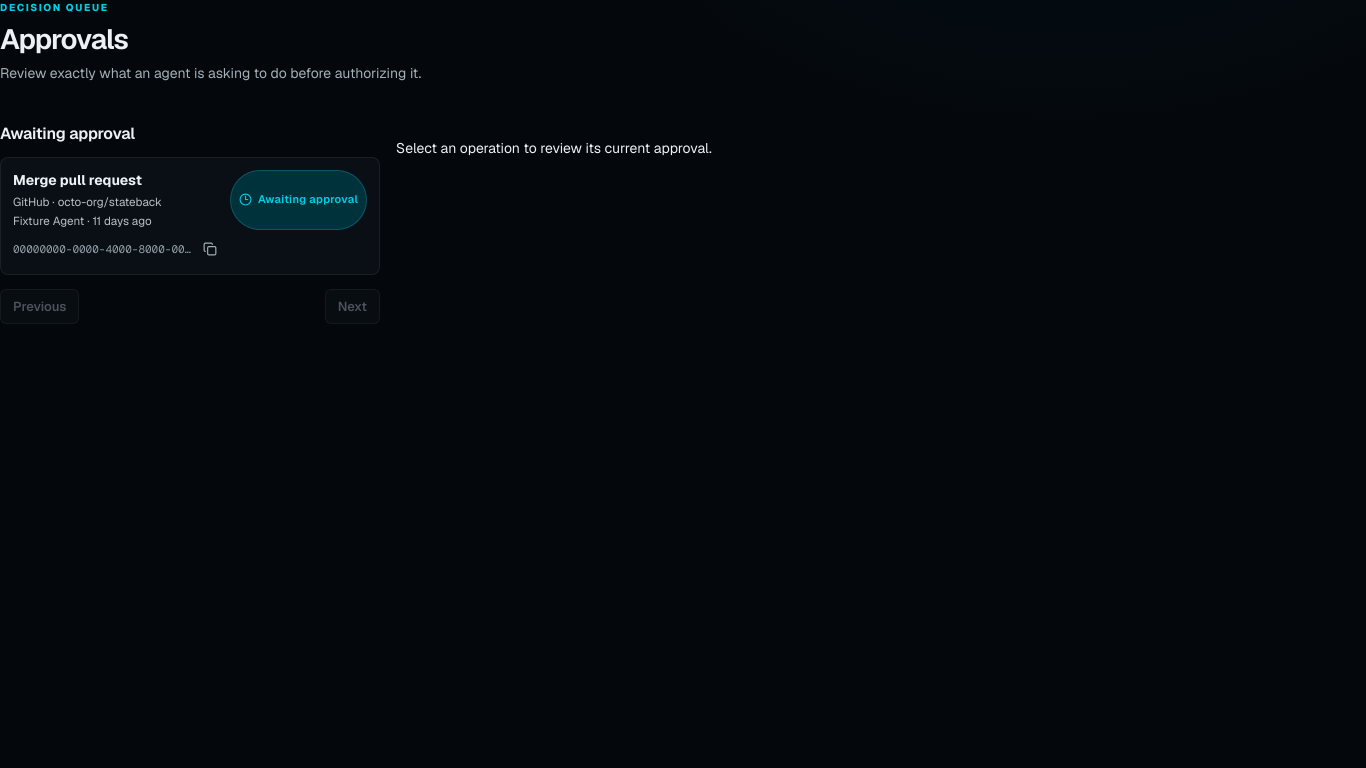
Scenario: makes merge approval bind the pull request, expected head, and method
Click the link with aria-label "merge pull request with github".
click(88, 200)  # box [13, 171, 162, 228]
(page scrolled)
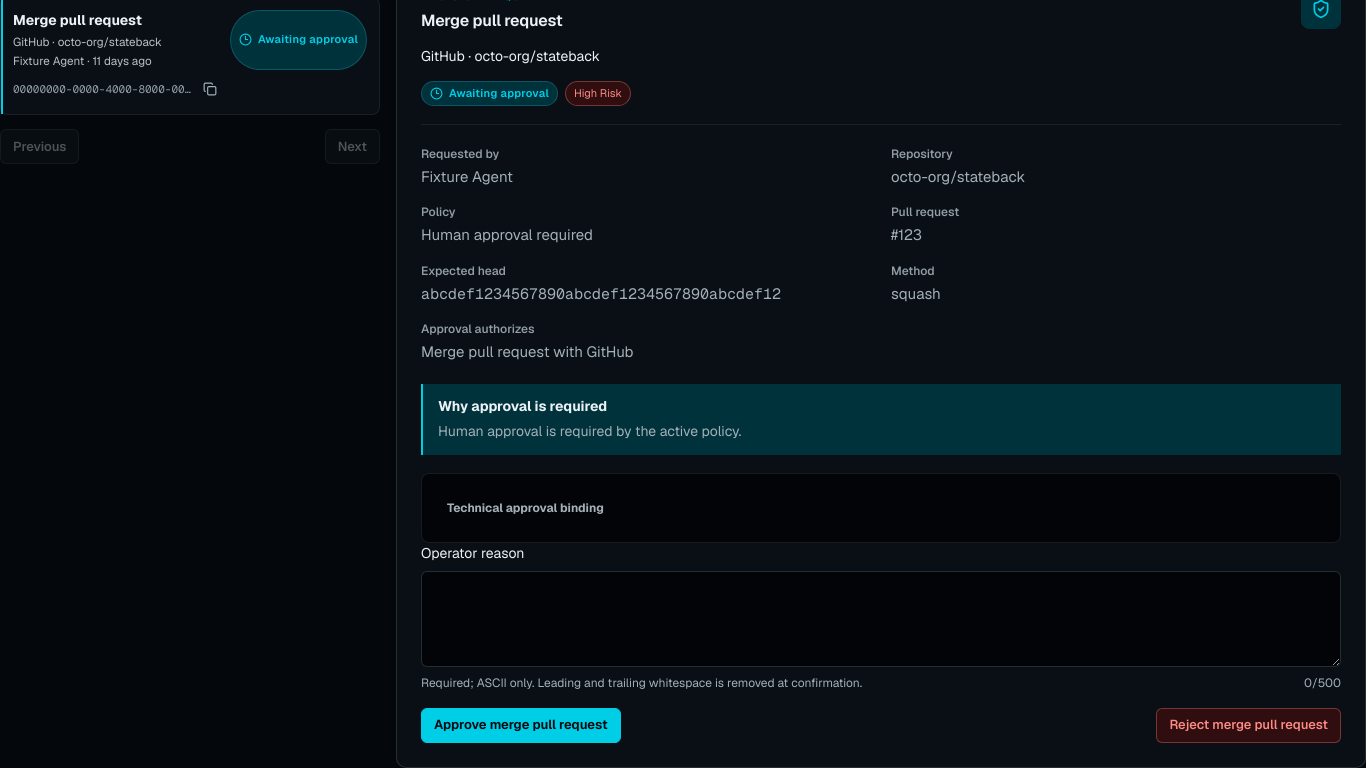
Result: the heading "Merge pull request" is shown at [421, 10, 562, 31]
Result: the text "#123" is shown at [891, 226, 922, 244]
Result: the text "abcdef1234567890abcdef1234567890abcdef12" is shown at [421, 284, 781, 303]
